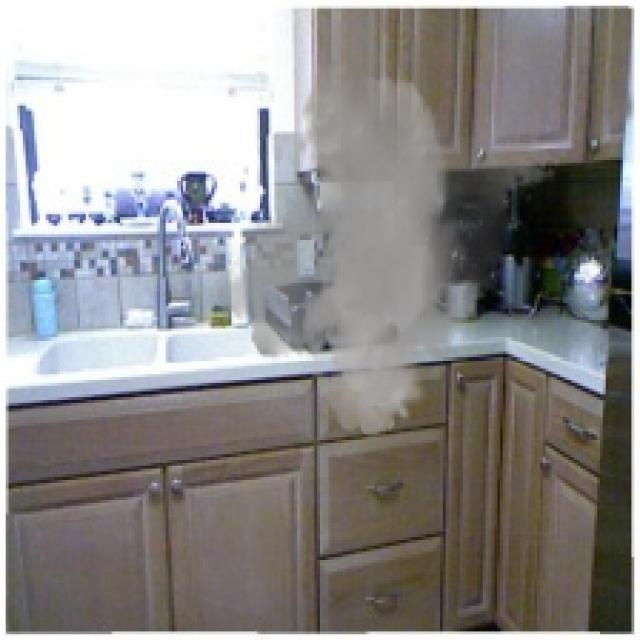smoke: (206, 60, 563, 437)
